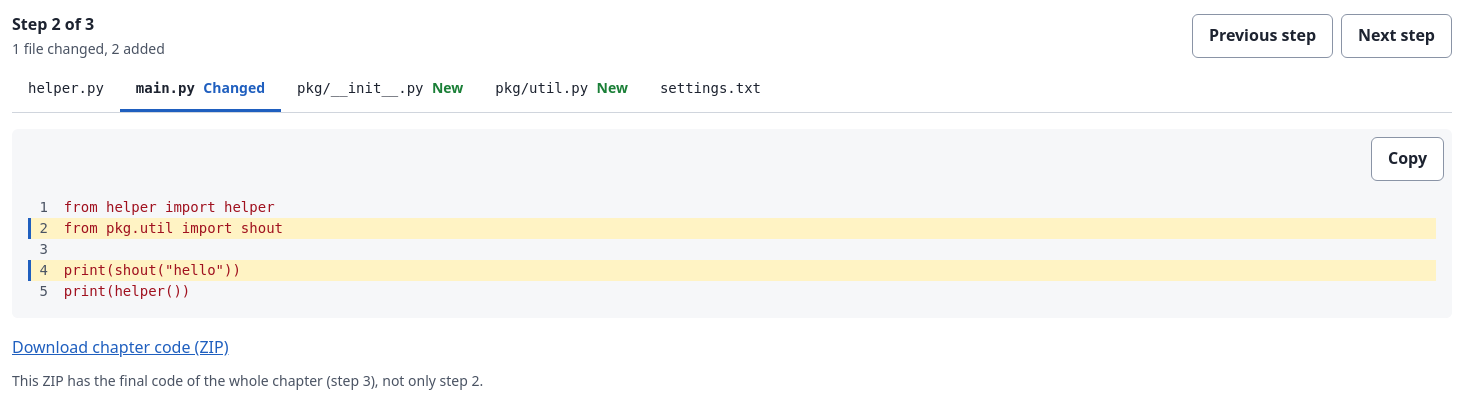
Scenario: the step buttons › goes forward and back with the mouse: the count, the tab list label and every file change with the step
Expected: the element named "Files in step 2" is shown, [12,68,1452,113]
Click the button "Next step". click: point(1396, 36)
box: [1341,14,1452,58]
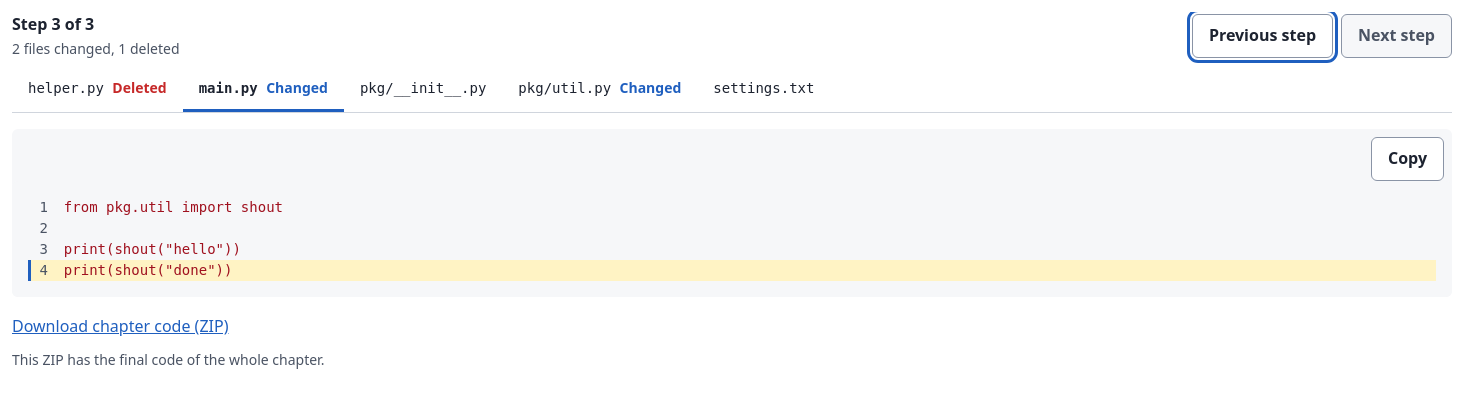
Expected: the text "Step 3 of 3" is shown, [12,13,94,35]
Click the button "Previous step". click: point(1262, 36)
box: [1192,14,1333,58]
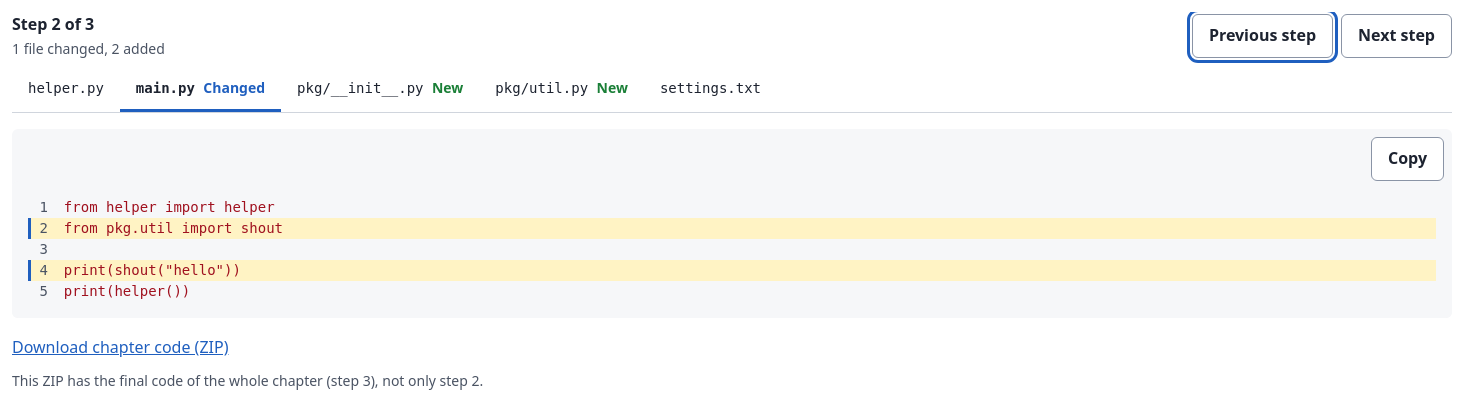
Click the button "Previous step". click: point(1262, 36)
box: [1192,14,1333,58]
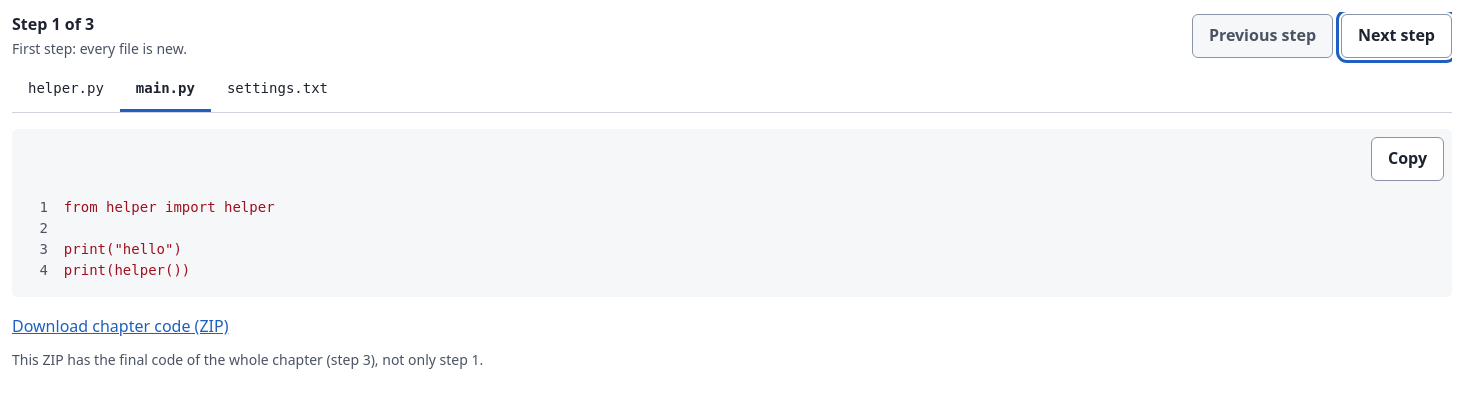
Expected: the text "Step 1 of 3" is shown, [12,13,94,35]
